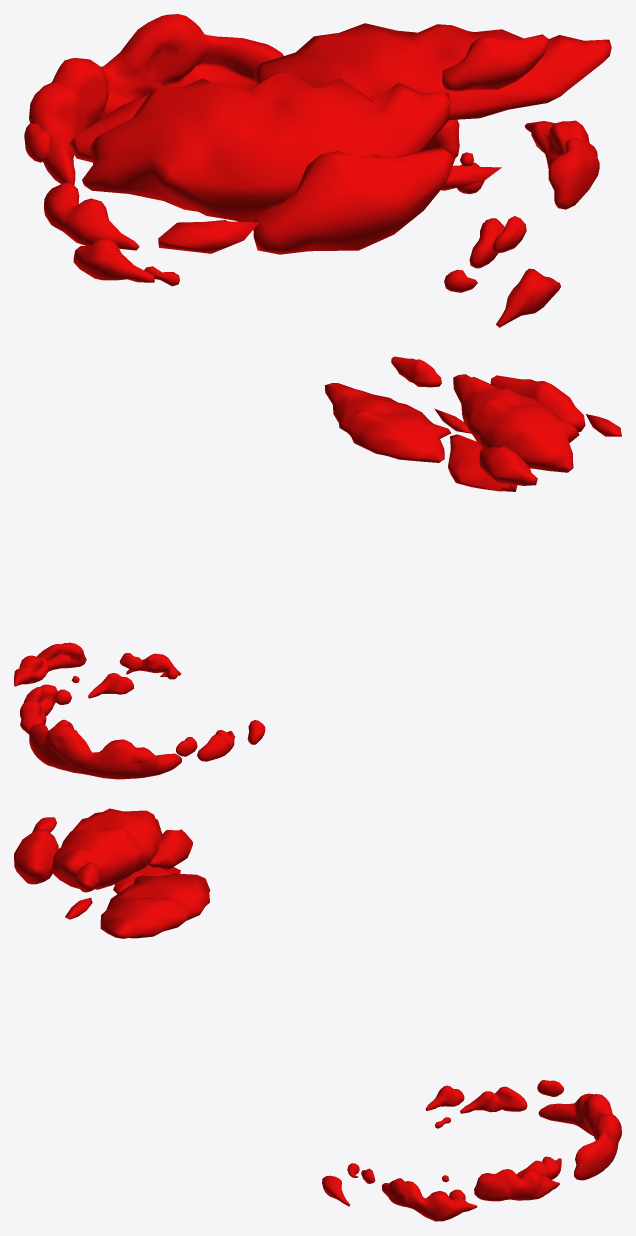
Rendered from Extras_Clouds_01.glb.
The picture shows the model from 3 angles, top to bottom: view 1: azimuth 30°, elevation 25°; view 2: azimuth 150°, elevation 25°; view 3: azimuth 270°, elevation 25°; orthographic projection. The views are drawn at different scales.
Visible parts, largest first — view 1: Clouds, pasted__pasted__polySurface300_Group49711; view 2: Clouds, pasted__pasted__polySurface300_Group49711; view 3: Clouds, pasted__pasted__polySurface300_Group49711.
Part boxes in pixels (x1,y1,x2,y2): Clouds: (68,23,611,254); pasted__pasted__polySurface300_Group49711: (24,14,599,327); Clouds: (324,356,621,491); pasted__pasted__polySurface300_Group49711: (14,642,265,779); Clouds: (14,808,210,938); pasted__pasted__polySurface300_Group49711: (322,1080,621,1221).
Bounding box in the file's own units: 148 × 90.23 × 189.
